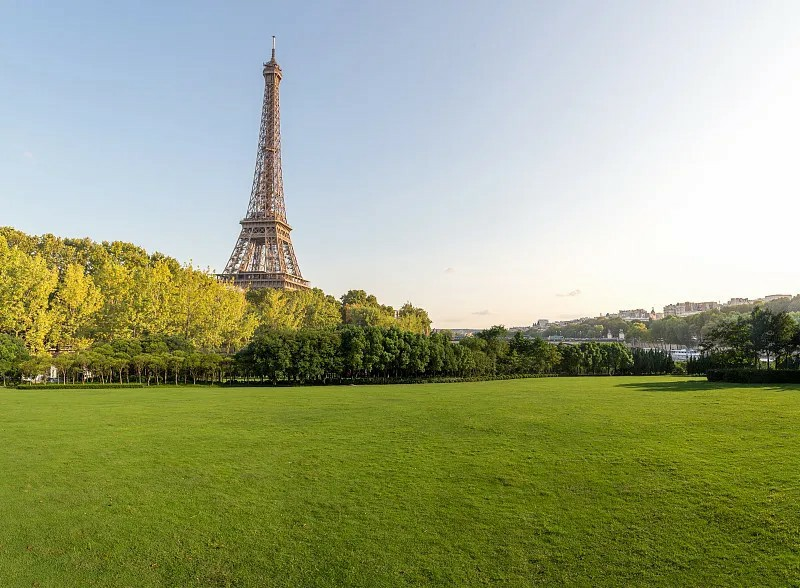Eiffel: (215, 36, 311, 300)
